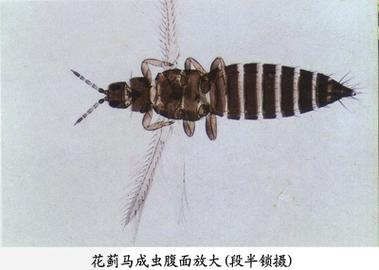Thripidae: (71, 1, 366, 242)
